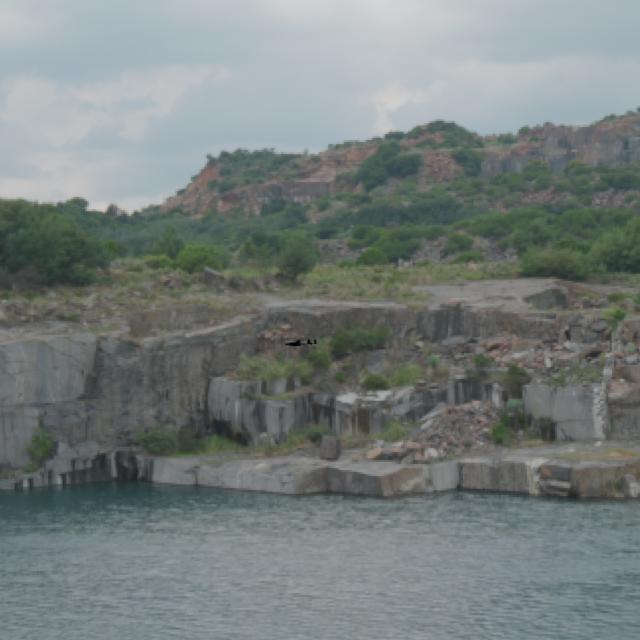Airaplan: (282, 339, 317, 347)
